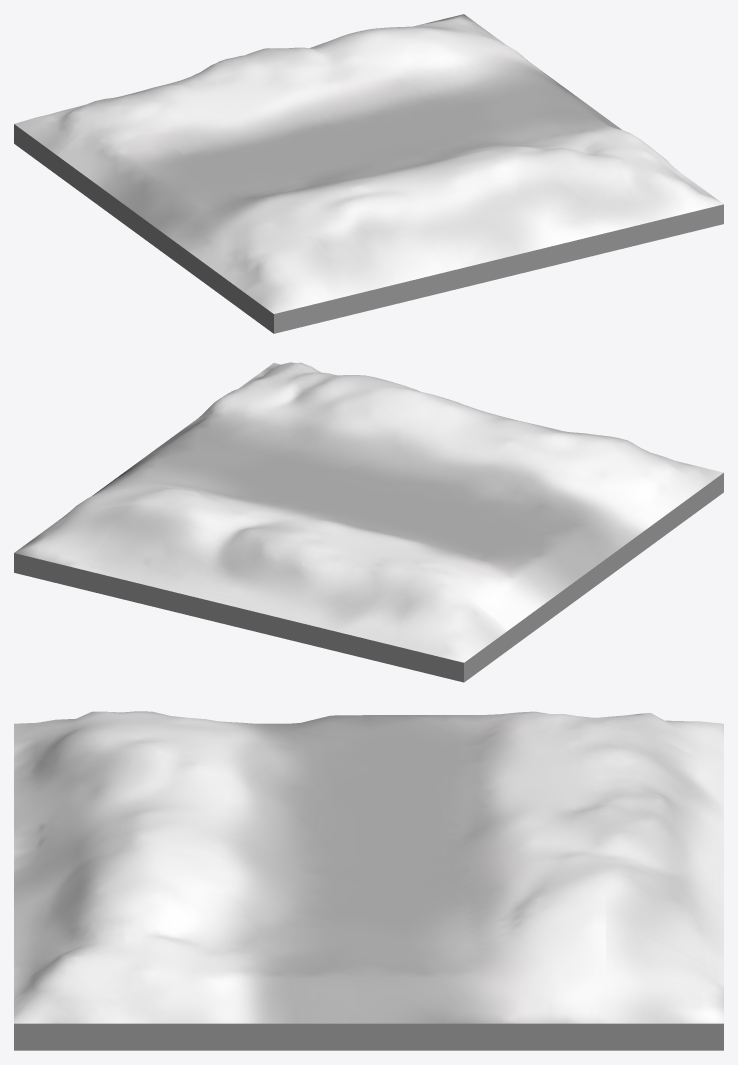
File: StraightBlock.fbx
The picture shows the model from 3 angles, top to bottom: view 1: azimuth 30°, elevation 25°; view 2: azimuth 150°, elevation 25°; view 3: azimuth 270°, elevation 25°; orthographic projection. The views are drawn at different scales.
Parts seen in each view (by area): view 1: StraightBlock; view 2: StraightBlock; view 3: StraightBlock.
Boxes of the visible parts, x1,y1,x2,y2 form: StraightBlock: [14, 14, 723, 333]; StraightBlock: [14, 362, 723, 682]; StraightBlock: [14, 711, 723, 1050].
Bounding box in the file's own units: 295 × 43.86 × 295.
